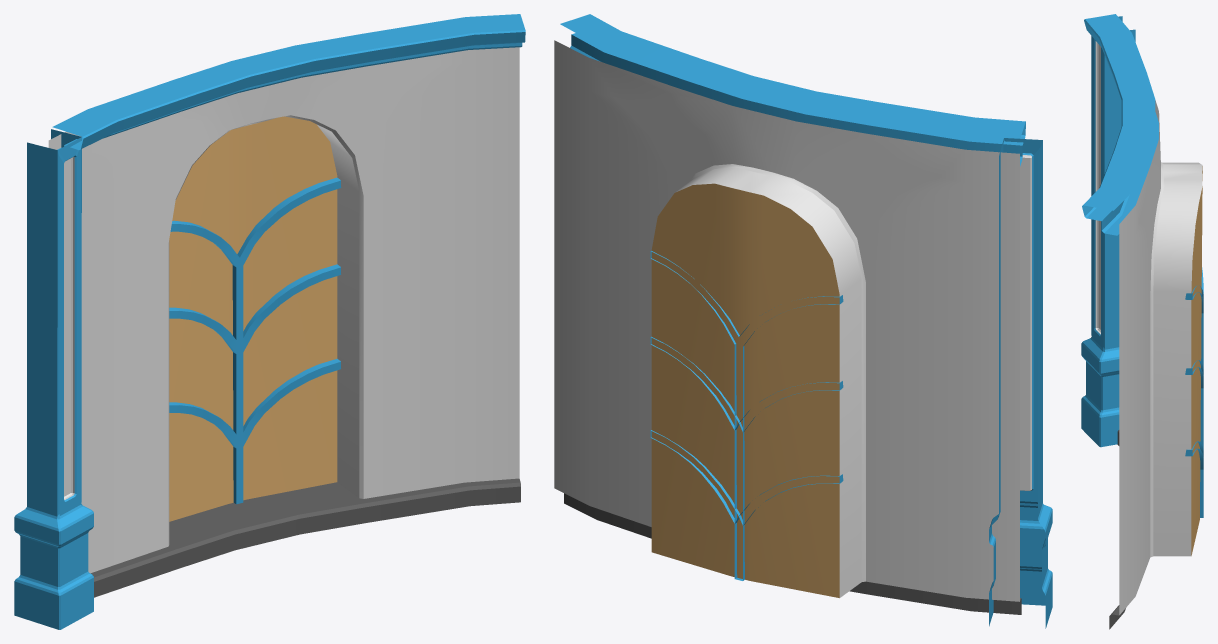
The model's file is P_Wall.fbx.
3 views of the same model, side by side, from view 1: azimuth 30°, elevation 25°; view 2: azimuth 150°, elevation 25°; view 3: azimuth 270°, elevation 25° (orthographic). The views are drawn at different scales.
Visible parts, largest first — view 1: Wall; view 2: Wall; view 3: Wall.
Boxes of the visible parts, <box> form: Wall: <box>14,14,525,629</box>; Wall: <box>554,14,1052,628</box>; Wall: <box>1081,14,1203,629</box>.
Bounding box in the file's own units: 399 × 371 × 97.91.
